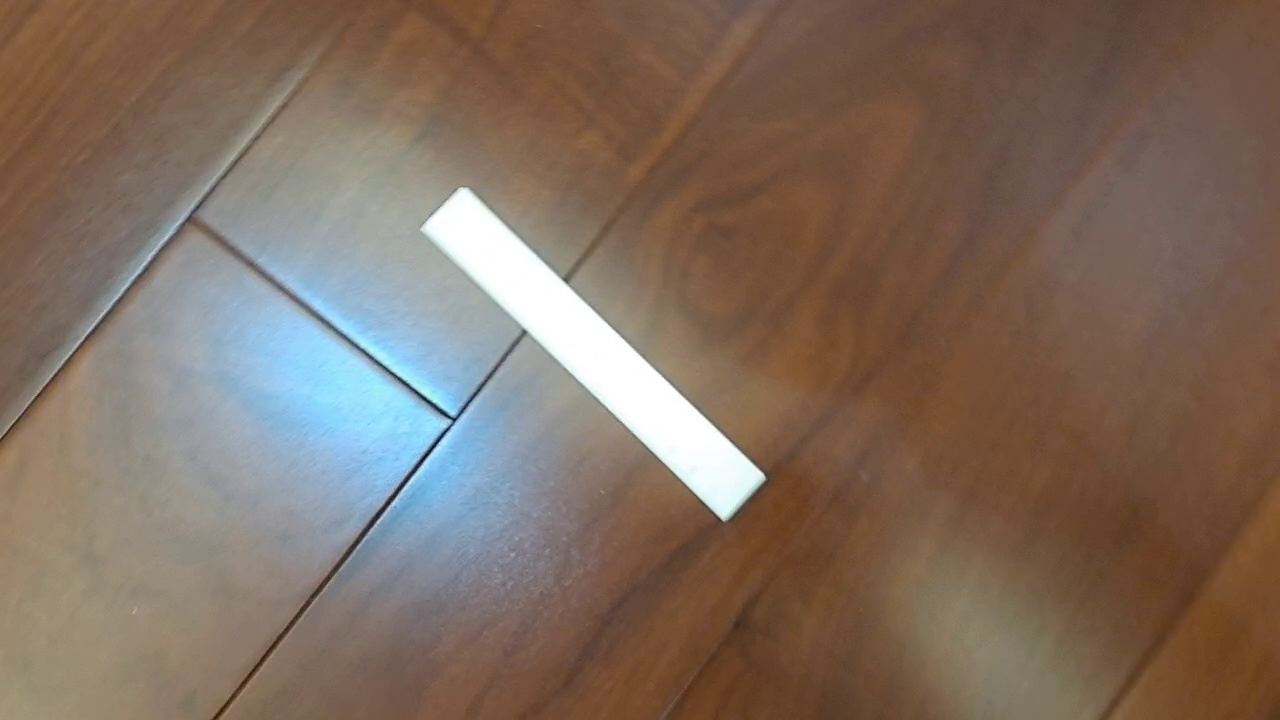ruler: (417, 184, 769, 524)
